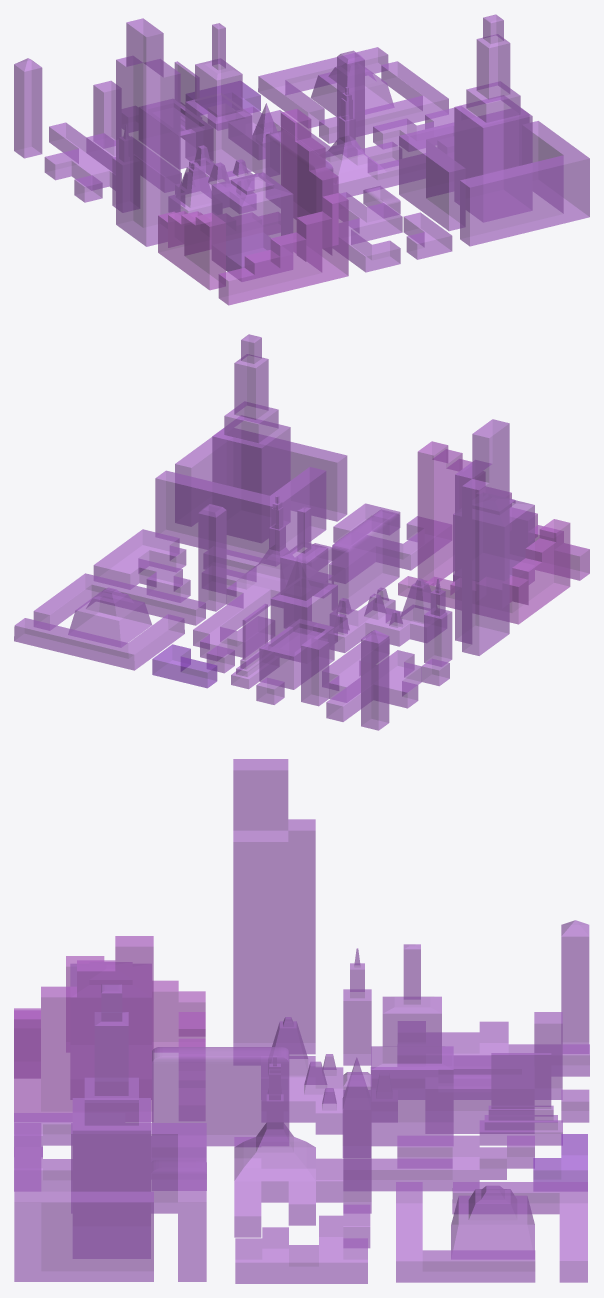
File: building1.gltf
3 views of the same model, one above another, from view 1: azimuth 30°, elevation 25°; view 2: azimuth 150°, elevation 25°; view 3: azimuth 270°, elevation 25° (orthographic). The views are drawn at different scales.
Visible parts, largest first — view 1: Cube.006, Cube.024, Cube.030, Cube.001, Cube.005, Cube.010, Cube.026, Cube.015, Cube.027, Cube.004, Cube.011, Cube.008 (+16 smaller); view 2: Cube.006, Cube.024, Cube.001, Cube.030, Cube.005, Cube.010, Cube.027, Cube.004, Cube.026, Cube.011, Cube.003, Cube.015 (+16 smaller); view 3: Cube.006, Cube.024, Cube.030, Cube.010, Cube.001, Cube.011, Cube.005, Cube.026, Cube.027, Cube.003, Cube.025, Cube.020 (+15 smaller).
Part boxes in pixels (bbox=[...]): Cube.006: bbox=[399, 109, 589, 246]; Cube.024: bbox=[116, 18, 180, 246]; Cube.030: bbox=[218, 109, 348, 305]; Cube.001: bbox=[454, 14, 532, 221]; Cube.005: bbox=[258, 47, 448, 143]; Cube.010: bbox=[229, 87, 425, 197]; Cube.026: bbox=[185, 23, 252, 176]; Cube.015: bbox=[211, 172, 293, 271]; Cube.027: bbox=[86, 133, 255, 216]; Cube.004: bbox=[158, 211, 280, 290]; Cube.011: bbox=[265, 130, 333, 218]; Cube.008: bbox=[333, 192, 402, 272]; Cube.006: bbox=[155, 428, 347, 565]; Cube.024: bbox=[455, 419, 509, 655]; Cube.001: bbox=[212, 334, 290, 542]; Cube.030: bbox=[417, 441, 589, 585]; Cube.005: bbox=[14, 573, 205, 670]; Cube.010: bbox=[193, 495, 333, 660]; Cube.027: bbox=[322, 578, 446, 702]; Cube.004: bbox=[398, 519, 570, 624]; Cube.026: bbox=[270, 506, 337, 662]; Cube.011: bbox=[331, 509, 399, 613]; Cube.003: bbox=[93, 529, 190, 602]; Cube.015: bbox=[453, 493, 534, 581]; Cube.006: bbox=[14, 1123, 206, 1281]; Cube.024: bbox=[233, 759, 315, 1064]; Cube.030: bbox=[14, 936, 153, 1122]; Cube.010: bbox=[234, 1055, 506, 1237]; Cube.001: bbox=[72, 984, 150, 1258]; Cube.011: bbox=[152, 1047, 289, 1146]; Cube.005: bbox=[396, 1182, 587, 1282]; Cube.026: bbox=[371, 944, 453, 1146]; Cube.027: bbox=[261, 1017, 491, 1134]; Cube.003: bbox=[235, 1204, 370, 1283]; Cube.025: bbox=[425, 1066, 534, 1133]; Cube.020: bbox=[479, 1053, 562, 1145].
Bounding box in the file's own units: 21 × 11.5 × 21.15.
